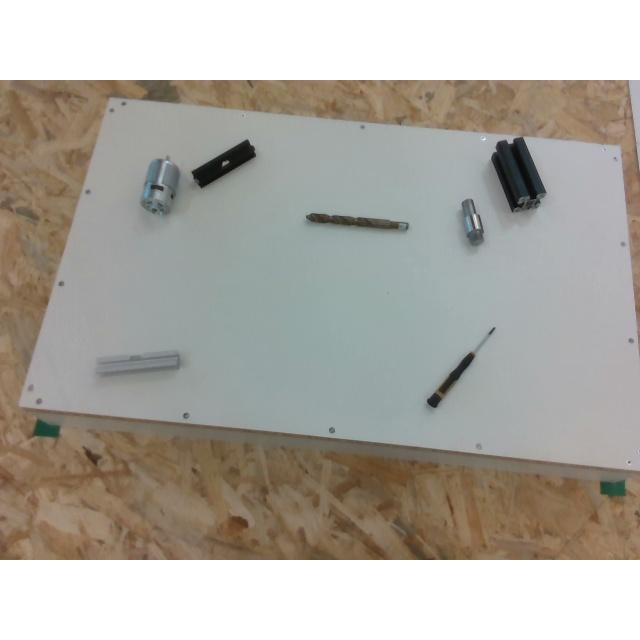Axis2: (461, 198, 483, 246)
Drill: (306, 212, 408, 230)
F20_20_B: (192, 139, 254, 187)
F20_20_G: (95, 351, 179, 374)
Motor2: (141, 158, 179, 215)
S40_40_B: (492, 137, 544, 210)
